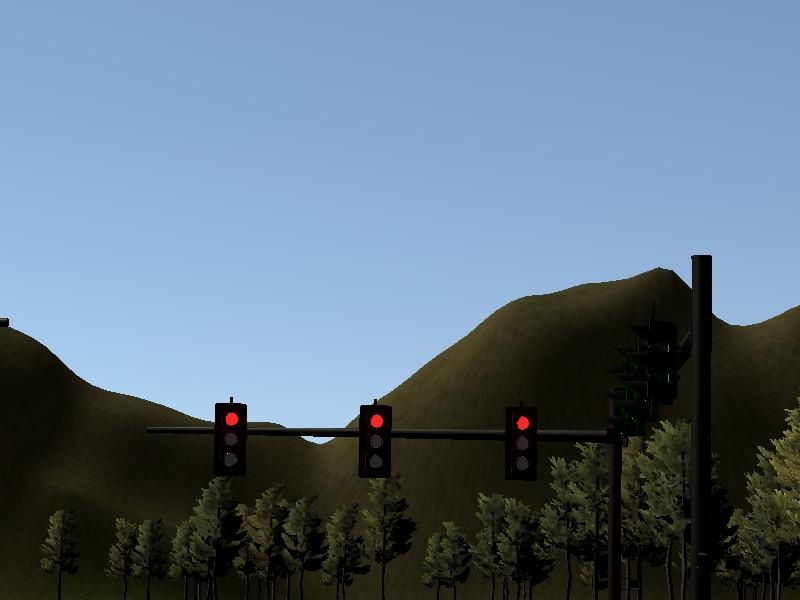red: (215, 403, 247, 476), (359, 404, 391, 477), (507, 407, 539, 480)
